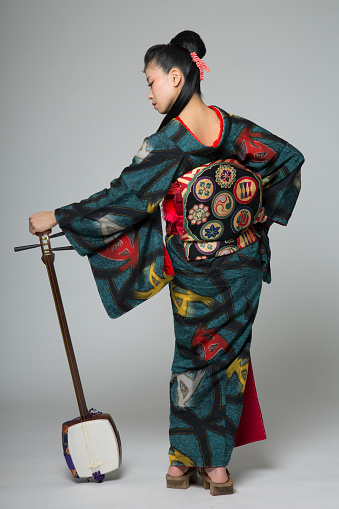em pe: (64, 21, 282, 465)
